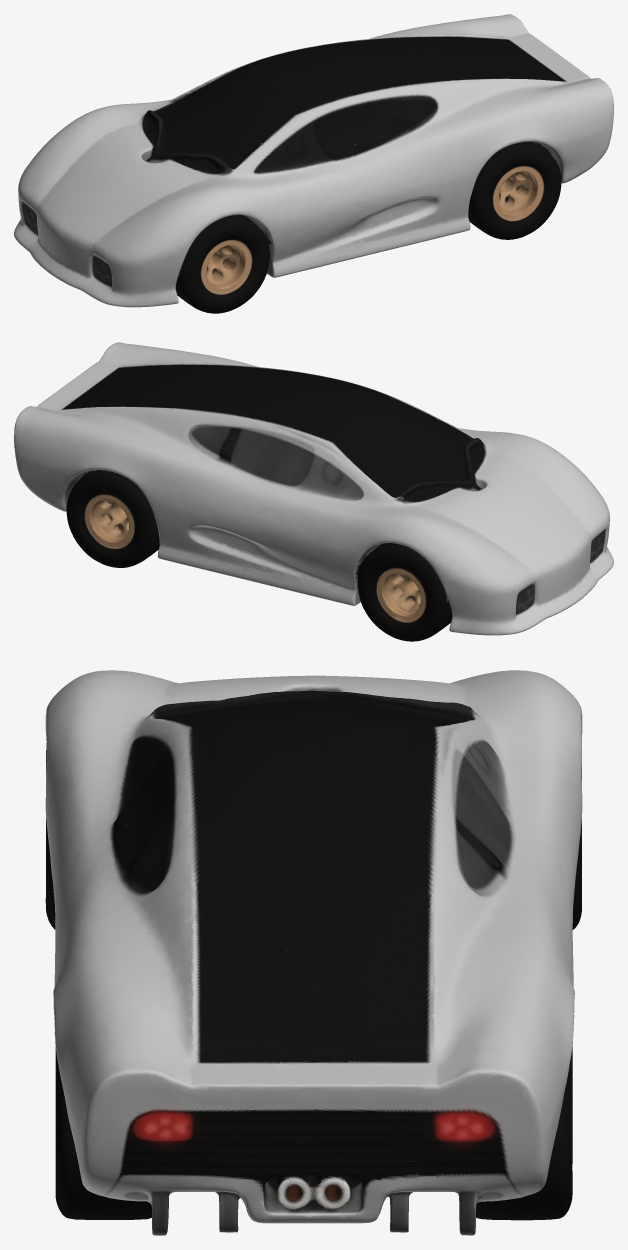
Rendered from cars_panther_robot.glb.
The picture shows the model from 3 angles, top to bottom: view 1: azimuth 30°, elevation 25°; view 2: azimuth 150°, elevation 25°; view 3: azimuth 270°, elevation 25°; orthographic projection. The views are drawn at different scales.
Size of the model in its own units: 1.9 by 0.5662 by 0.863.
1 material, 1 textured.
